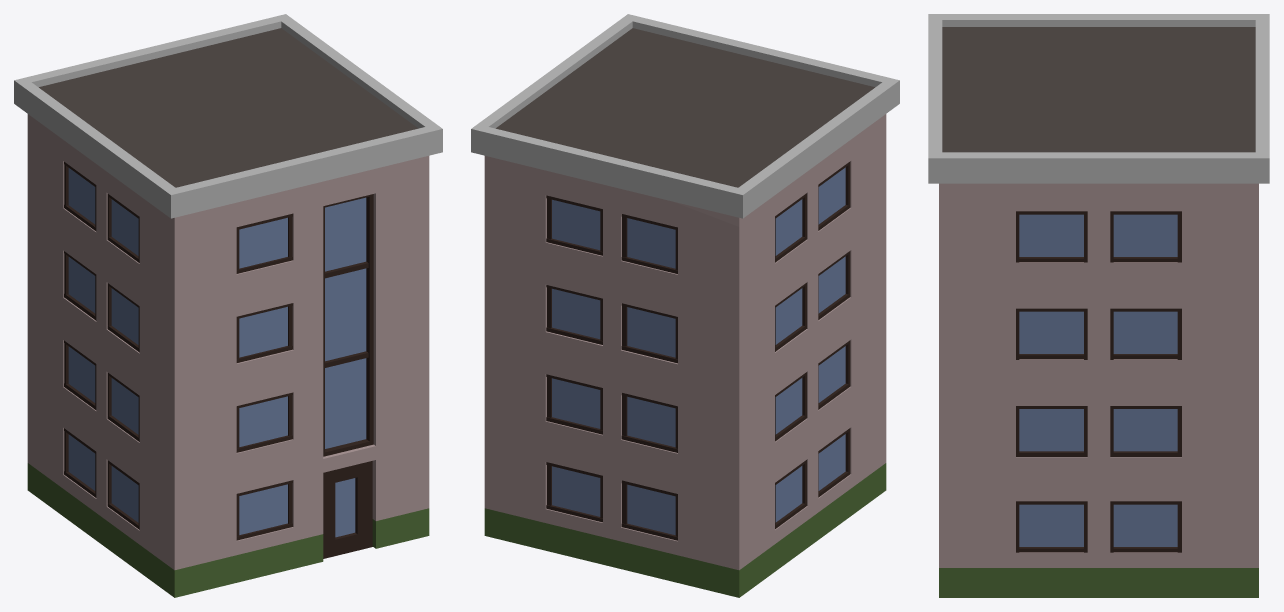
Rendered from ApartmentBuilding_01.fbx.
3 renders of one model, left to right at view 1: azimuth 30°, elevation 25°; view 2: azimuth 150°, elevation 25°; view 3: azimuth 270°, elevation 25°, orthographic. The views are drawn at different scales.
Visible parts, largest first — view 1: ApartmentBuilding_01; view 2: ApartmentBuilding_01; view 3: ApartmentBuilding_01.
Boxes of the visible parts, x1=… form: ApartmentBuilding_01: x1=14, y1=14, x2=442, y2=597; ApartmentBuilding_01: x1=471, y1=14, x2=899, y2=597; ApartmentBuilding_01: x1=928, y1=14, x2=1269, y2=597.
Size of the model in its own units: 8.19 by 11.77 by 8.19.
